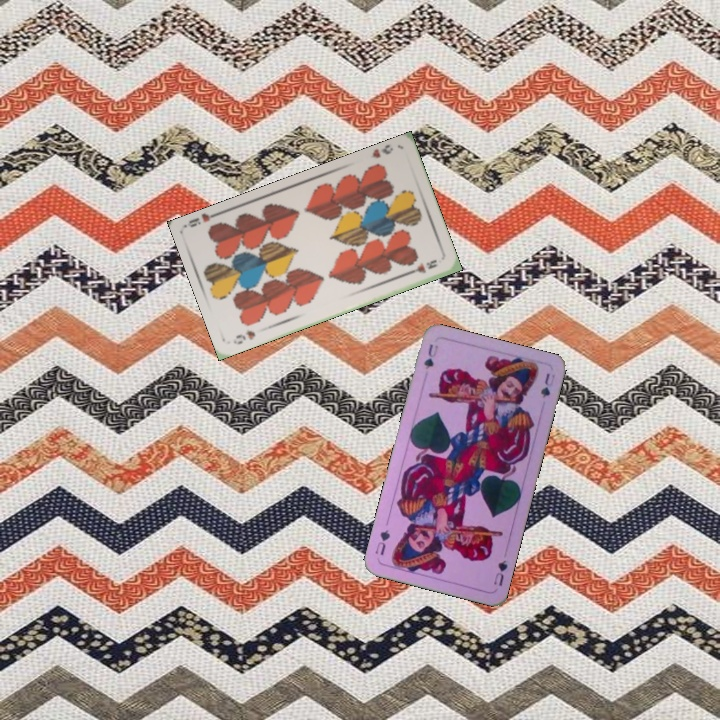GU: (489, 556, 510, 589), (420, 340, 441, 372)
H9: (229, 326, 258, 347), (368, 142, 396, 161)
